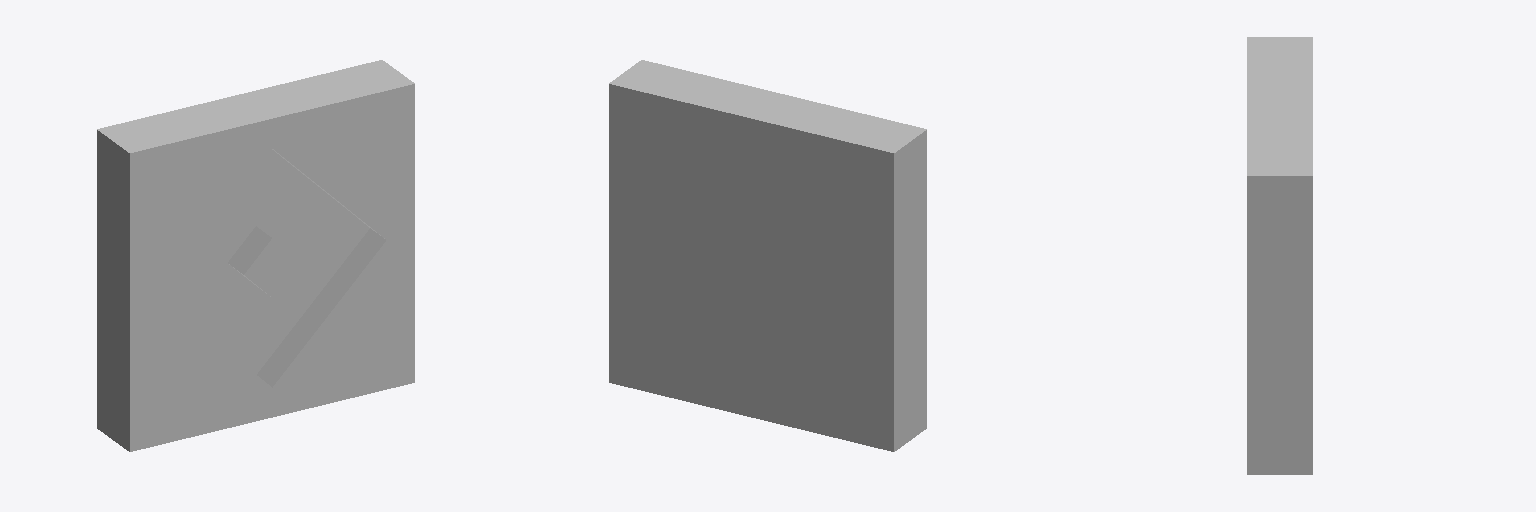
Rendered from Jump.obj.
3 renders of one model, left to right at view 1: azimuth 30°, elevation 25°; view 2: azimuth 150°, elevation 25°; view 3: azimuth 270°, elevation 25°, orthographic.
Parts seen in each view (by area): view 1: Body1; view 2: Body1; view 3: Body1.
Part boxes in pixels (bbox=[...]): Body1: bbox=[97, 60, 414, 451]; Body1: bbox=[609, 60, 926, 451]; Body1: bbox=[1247, 37, 1312, 474].
Size of the model in its own units: 50 by 50 by 10.